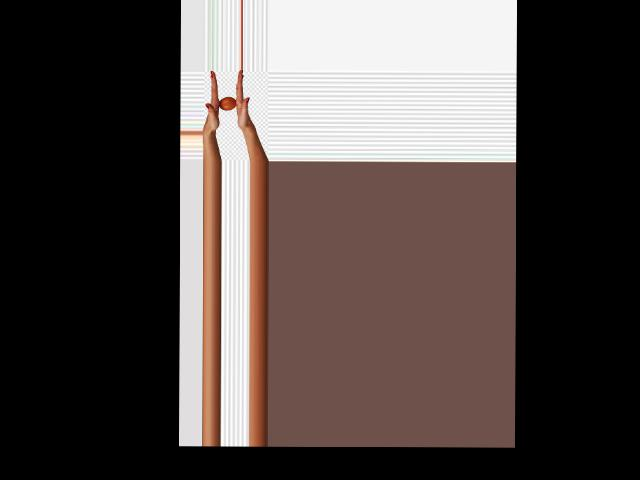egg: (219, 97, 236, 110)
